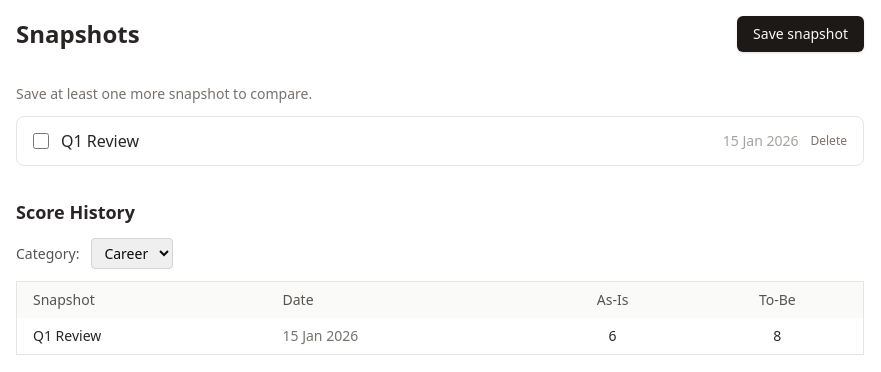
it: SnapshotsPage › snapshot delete › confirming delete removes snapshot from list immediately
Step 1. Click the button with aria-label "delete snapshot" → (829, 141), box [810,133,847,149]
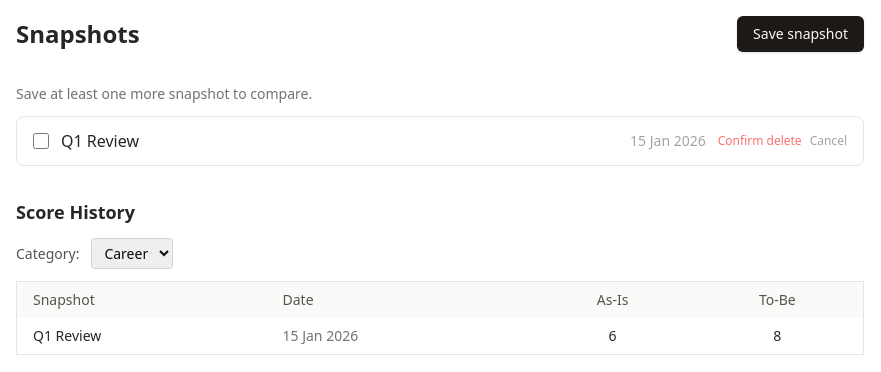
Step 2. Click the button "Confirm delete" → (760, 141), box [718,133,802,149]
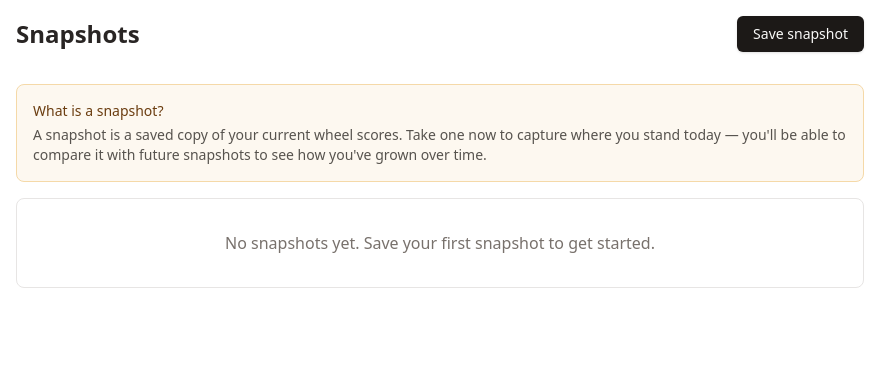
Result: the text "Q1 Review" is gone
